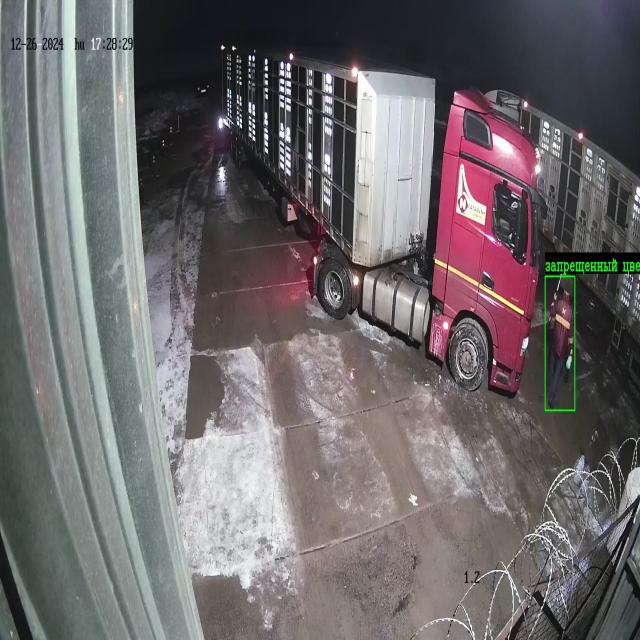Red uniform: (548, 278, 574, 408)
